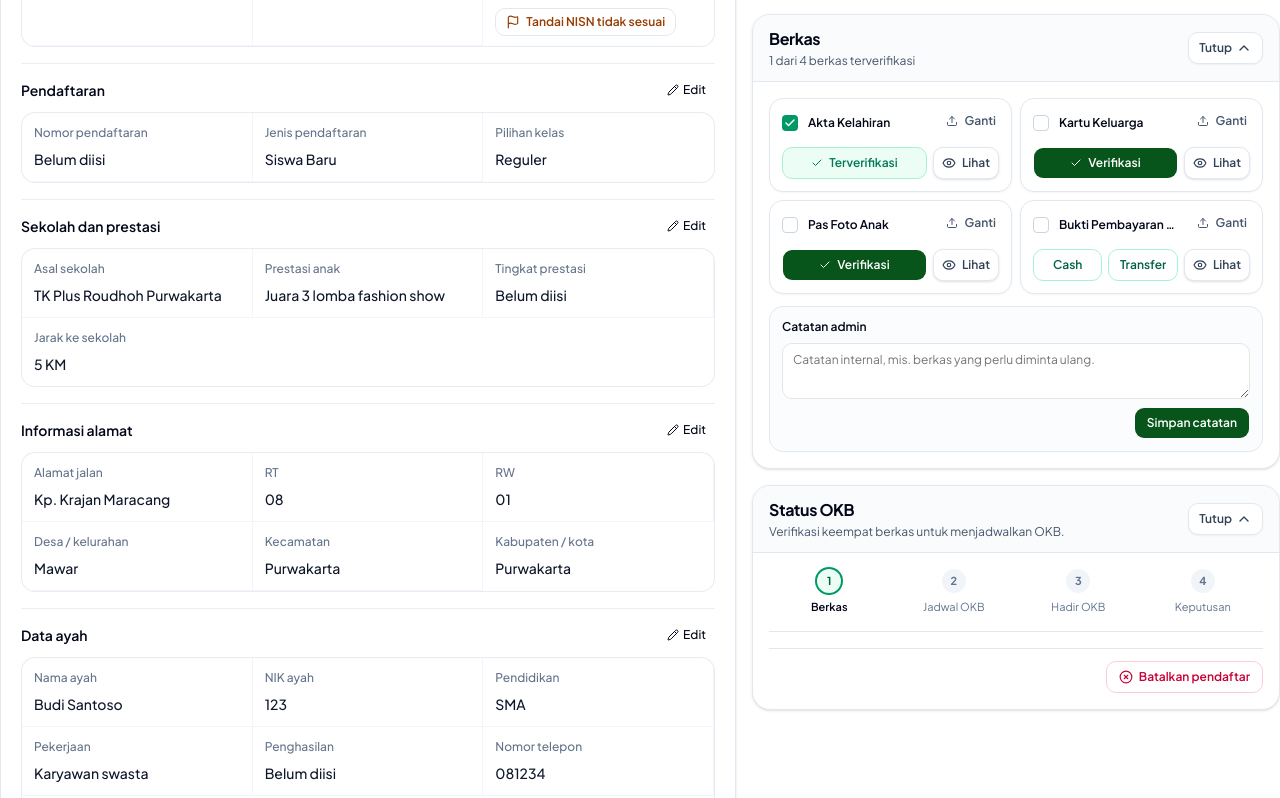
it: ParticipantDetail › offers only a cancel action while documents still await verification
The width and height of the screenshot is (1280, 798).
(page scrolled)
Expected: the text "Verifikasi keempat berkas untuk menjadwalkan OKB." is shown, 769,524 -> 1064,540
Expected: the button "ya, batalkan pendaftar" is not shown
Click the button "Batalkan pendaftar" at (1184, 677), box 1106,661 -> 1263,693
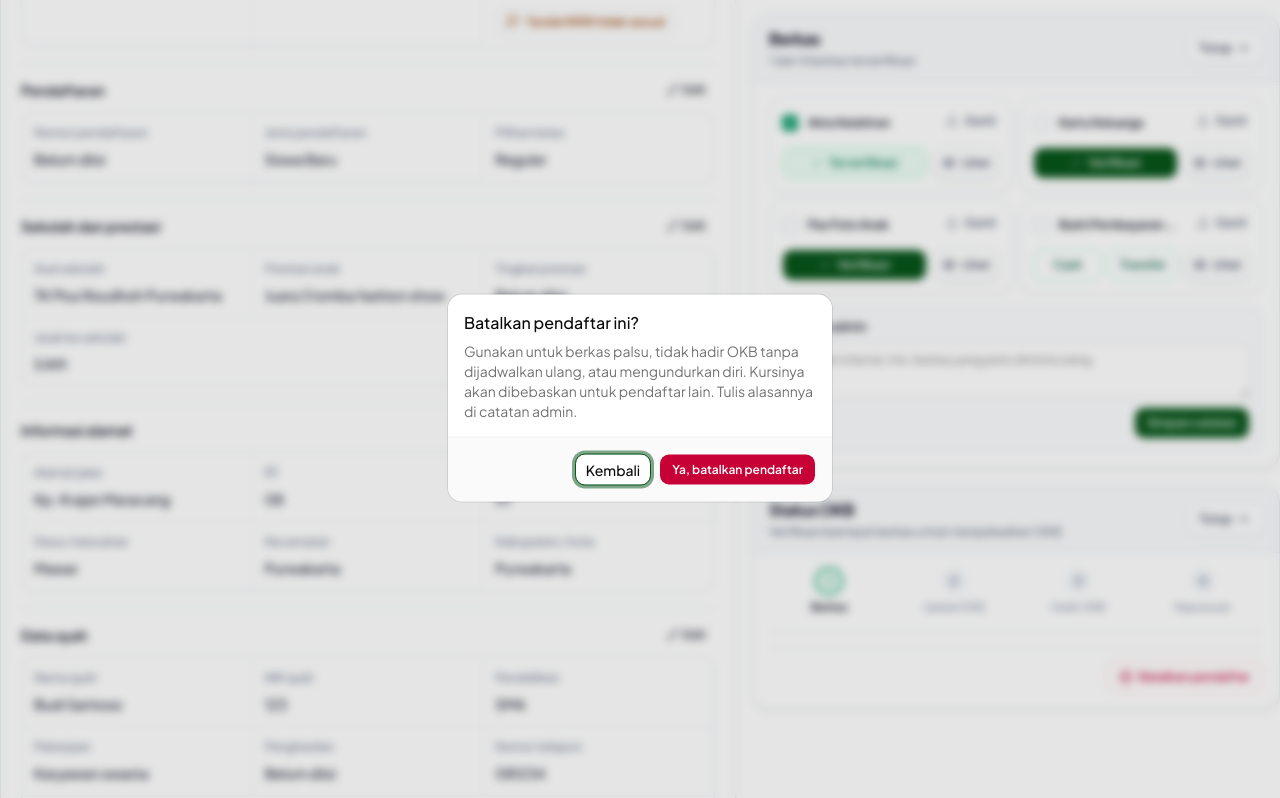
Expected: the dialog is shown, 448,294 -> 832,502
Expected: the button "Ya, batalkan pendaftar" is shown, 659,454 -> 816,486
